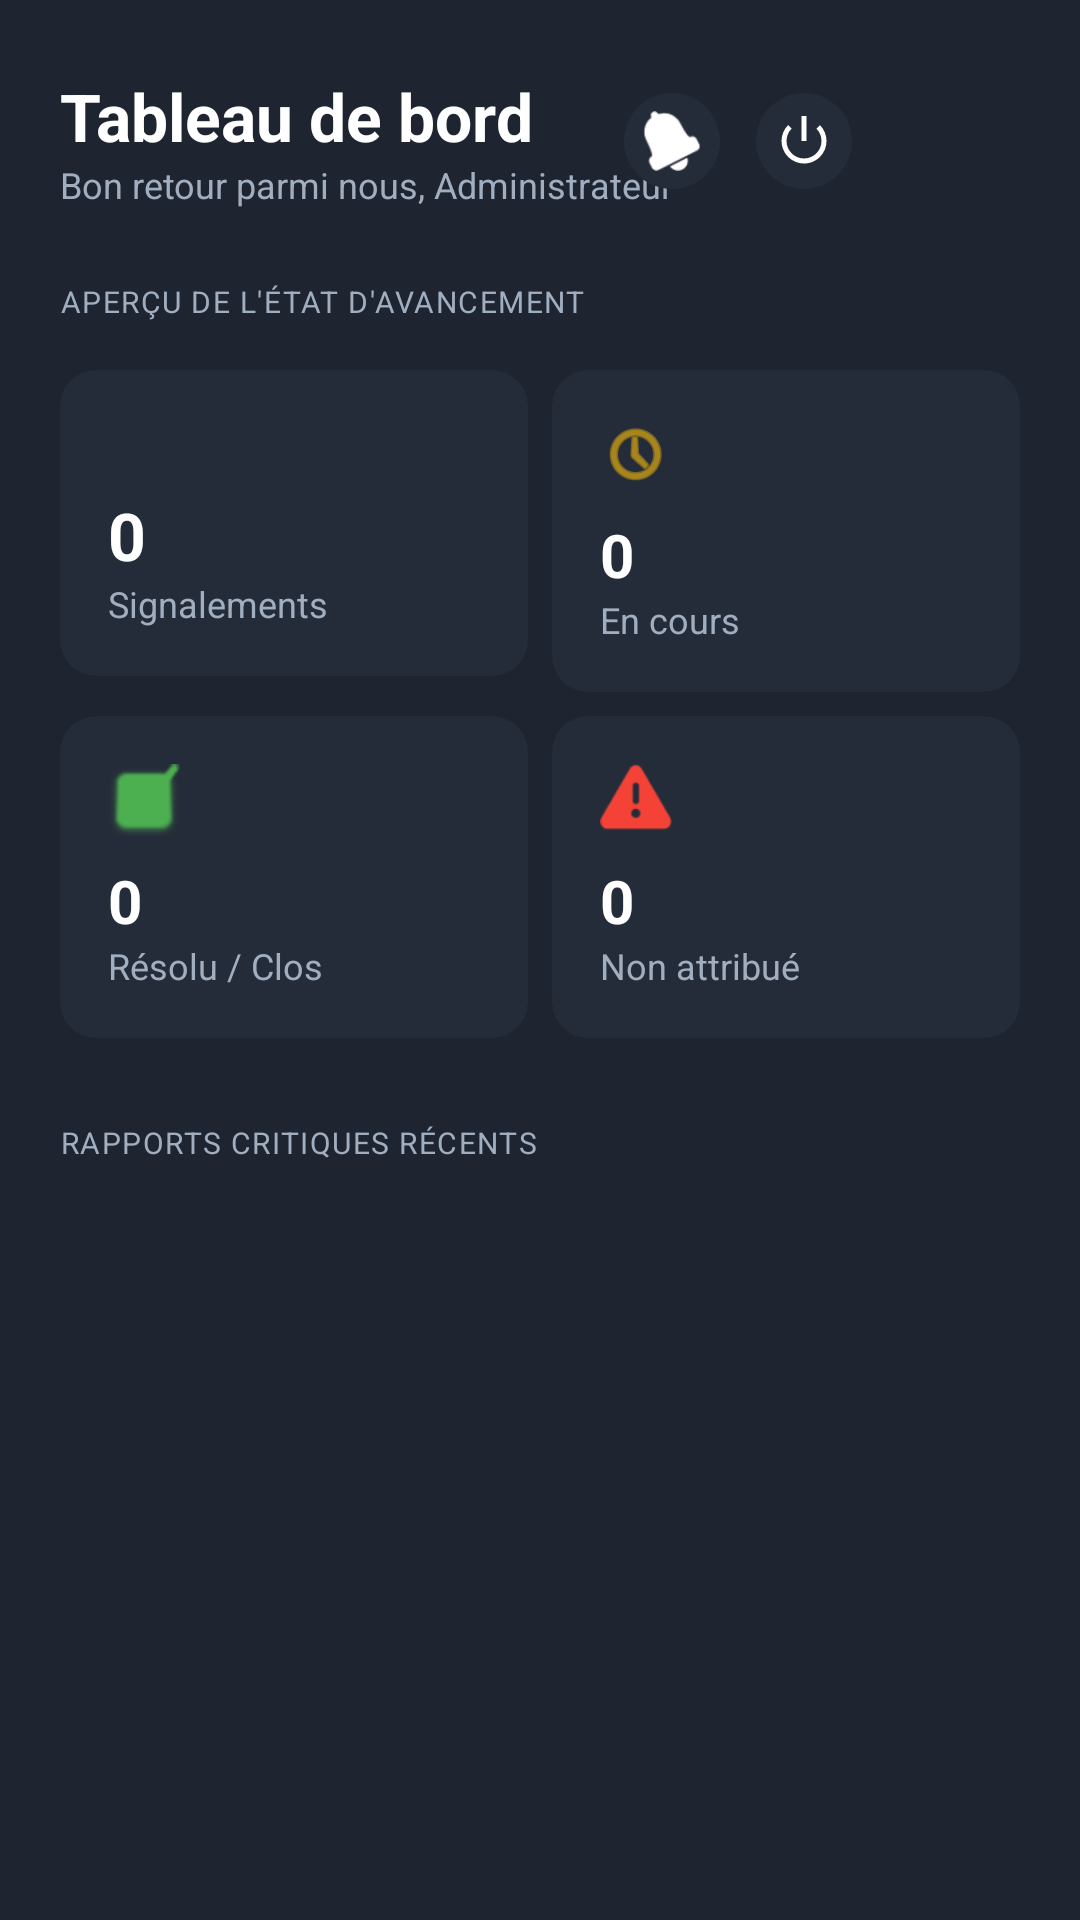

Named icons in this screenshot (1080x1920) and their bounding boxes, box(x1, y1, x2, y2):
alert: box(600, 764, 672, 830)
lock power off: box(757, 93, 851, 189)
popup reminder: box(644, 111, 700, 171)
recent history: box(610, 428, 662, 480)
